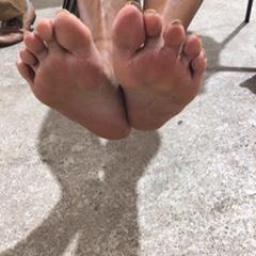Plantar View -Both Feet-: (11, 1, 214, 159)
